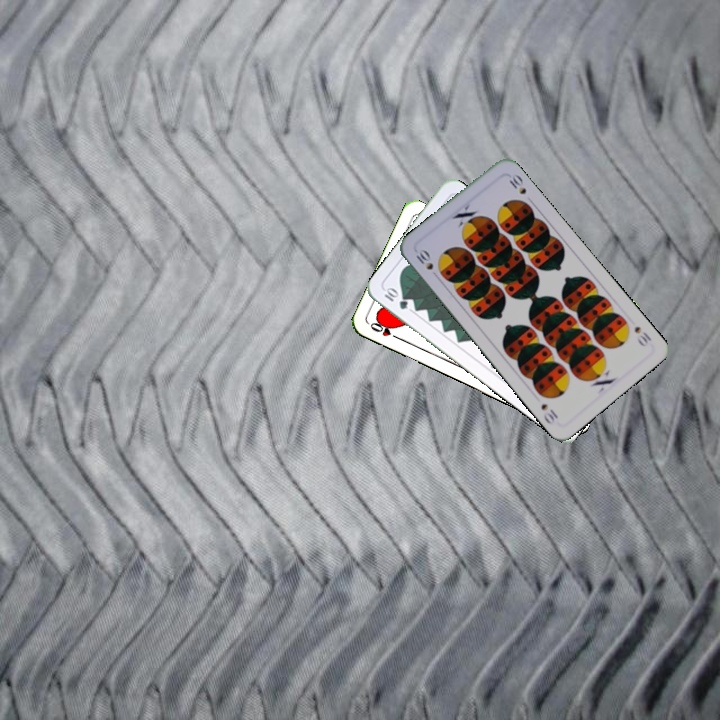G10: (380, 283, 411, 312)
HO: (366, 318, 404, 343)
S10: (412, 245, 441, 281), (630, 322, 654, 349)
